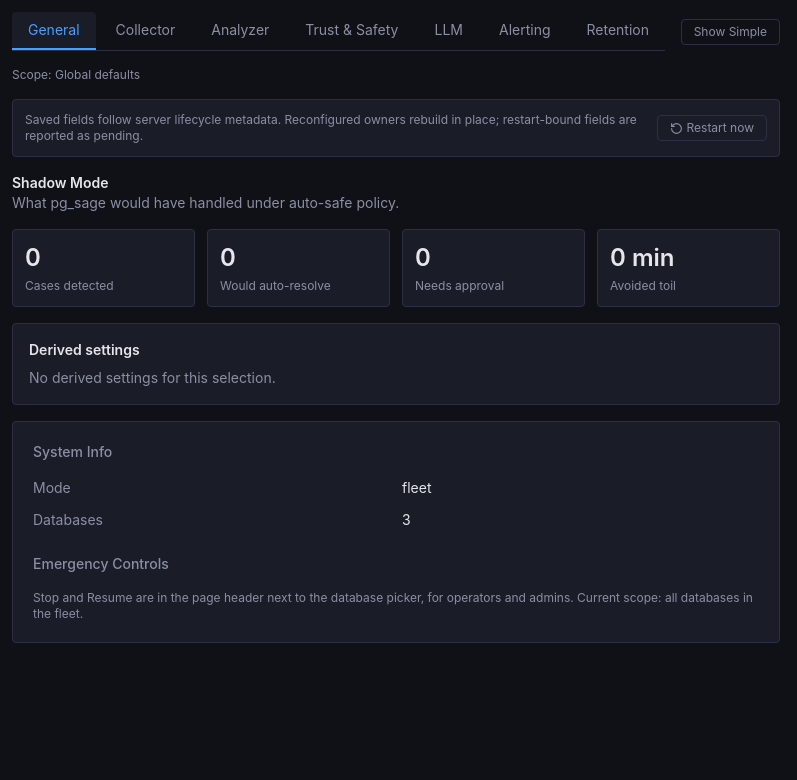
it: SettingsPage trust and emergency controls › does not offer the unused Tier 3 High Risk toggle
What coordinates should you click on to do the following:
click the button with test id "settings-tab-trust-safety"
I would click on:
 (352, 31)
Its box is x1=289 y1=12 x2=414 y2=50.
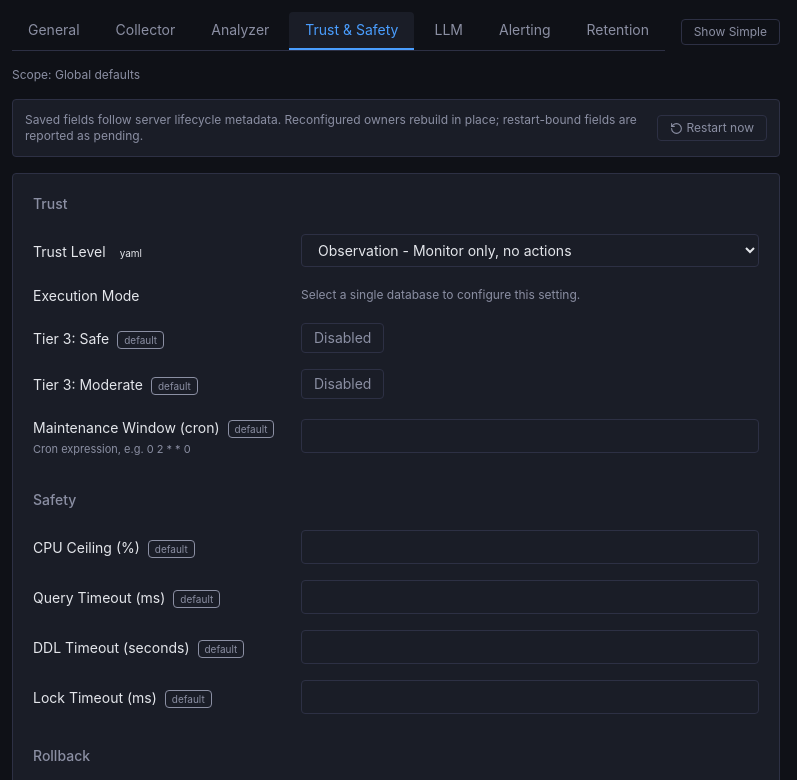
Result: the text "Tier 3: Safe" is shown at x1=33 y1=330 x2=109 y2=347
